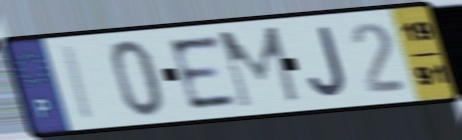0: (109, 37, 167, 120)
2: (350, 20, 407, 96)
E: (164, 32, 243, 113)
I: (61, 43, 98, 124)
J: (306, 23, 350, 99)
M: (215, 23, 304, 112)
